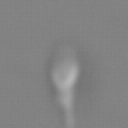abnormal: (52, 90, 90, 128)
